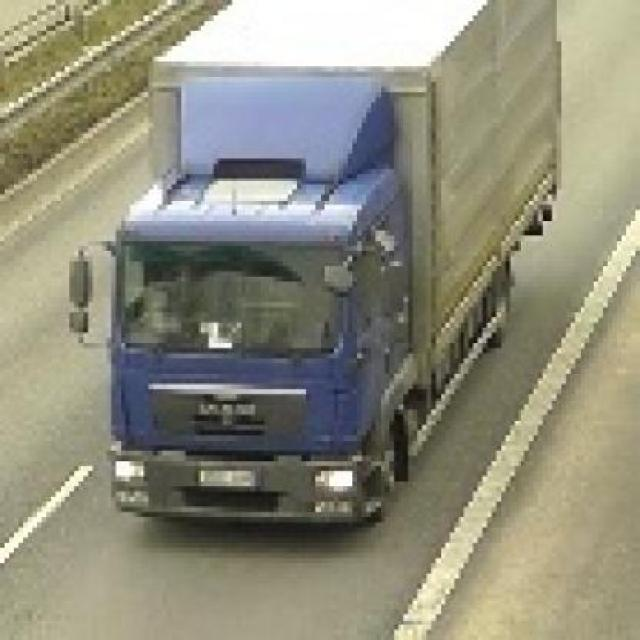truck: (65, 1, 562, 533)
